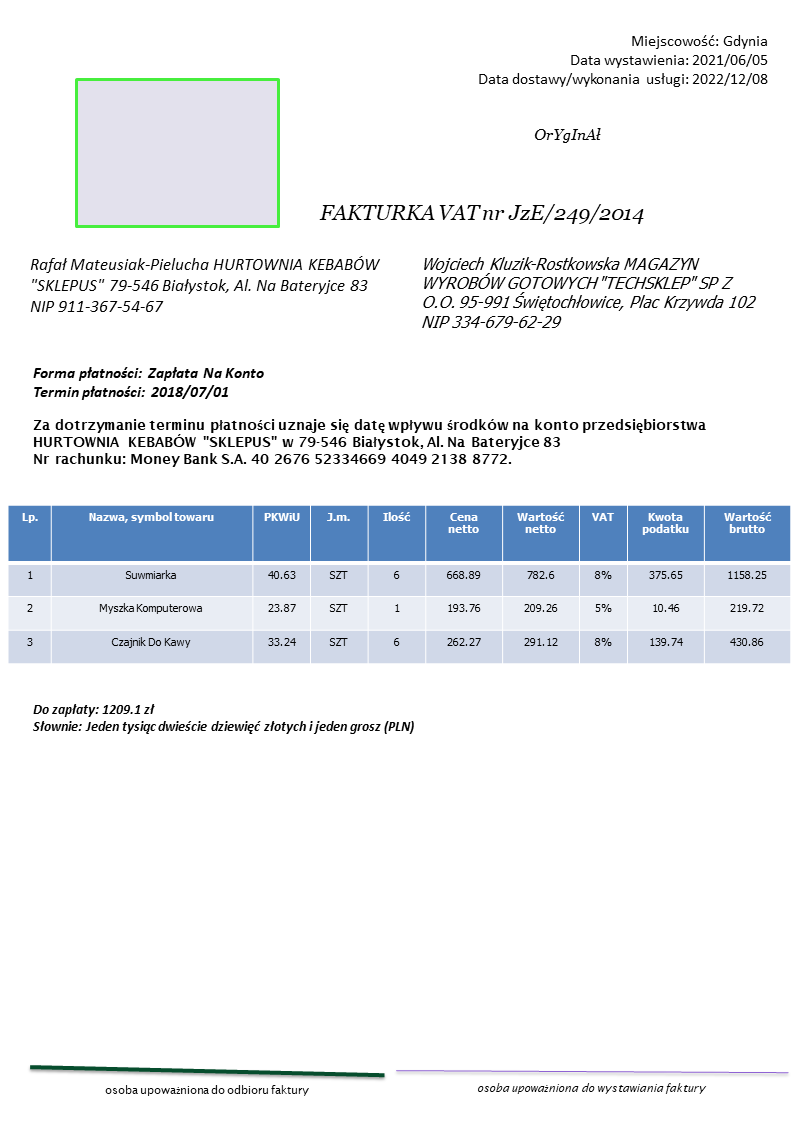Table: (6, 504, 792, 665)
TextBox: (30, 415, 710, 469), (419, 254, 760, 332), (28, 254, 383, 316), (475, 32, 771, 89), (29, 701, 417, 738), (317, 199, 646, 229), (31, 363, 267, 401), (473, 1077, 706, 1098), (103, 1082, 310, 1100), (530, 124, 604, 144)
